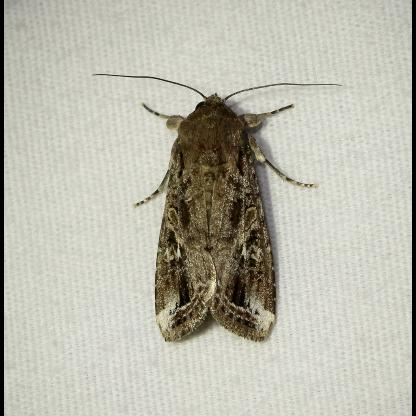Fall Armyworm Moth: (90, 70, 346, 346)
